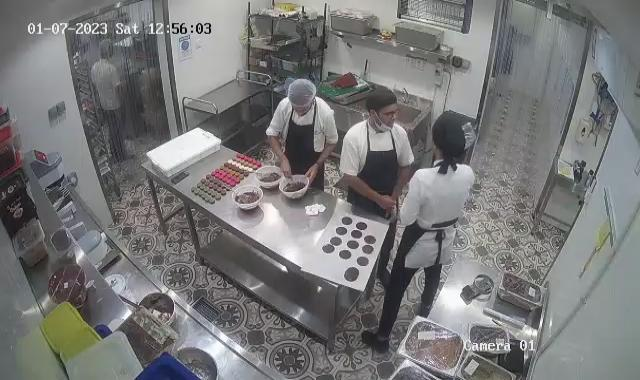hairnet: (287, 79, 316, 114)
no_hairnet: (430, 111, 469, 156), (365, 86, 397, 119)
